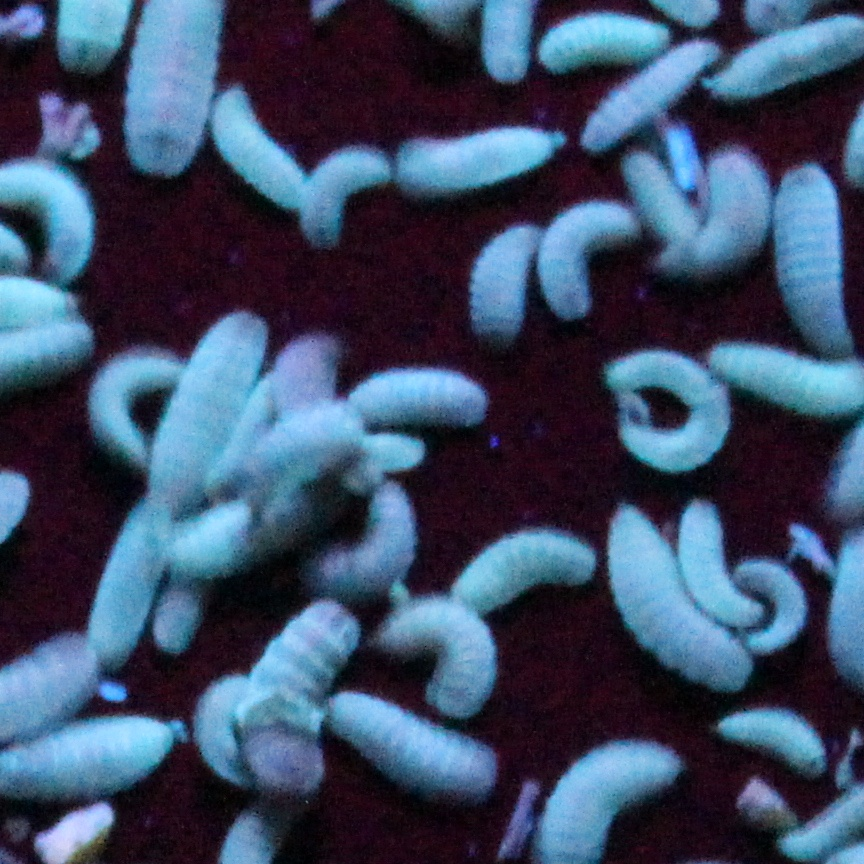larve: (613, 504, 754, 693), (160, 302, 266, 510), (329, 687, 501, 798), (0, 718, 180, 806), (770, 165, 854, 351), (609, 349, 733, 471), (380, 596, 498, 718), (588, 41, 720, 150), (666, 158, 768, 287), (305, 481, 419, 596), (90, 504, 168, 669), (535, 198, 639, 320), (82, 344, 184, 467), (456, 534, 598, 622), (674, 496, 764, 632), (250, 404, 364, 510), (172, 489, 303, 581), (215, 87, 308, 214), (395, 124, 556, 192), (347, 359, 486, 432), (529, 9, 671, 72), (303, 150, 383, 258), (474, 224, 537, 353), (717, 700, 825, 775), (262, 332, 345, 424), (737, 557, 813, 647), (622, 155, 698, 241), (156, 581, 200, 651)
